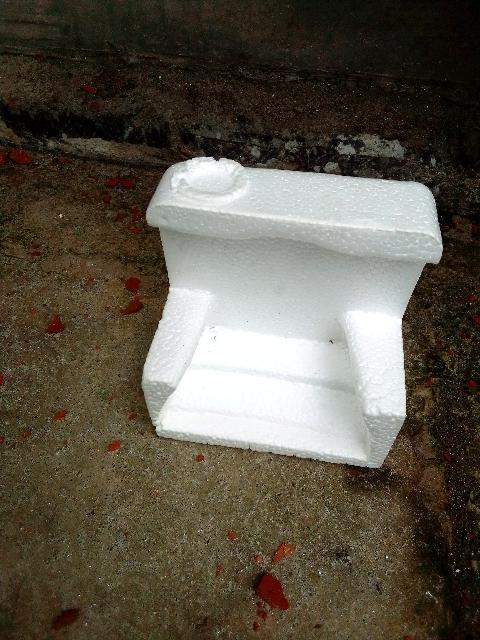cocksheet: (71, 119, 454, 477)
